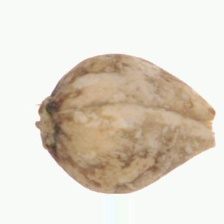L1: (34, 95, 63, 154), (200, 102, 217, 149)
L2: (36, 53, 215, 195)
